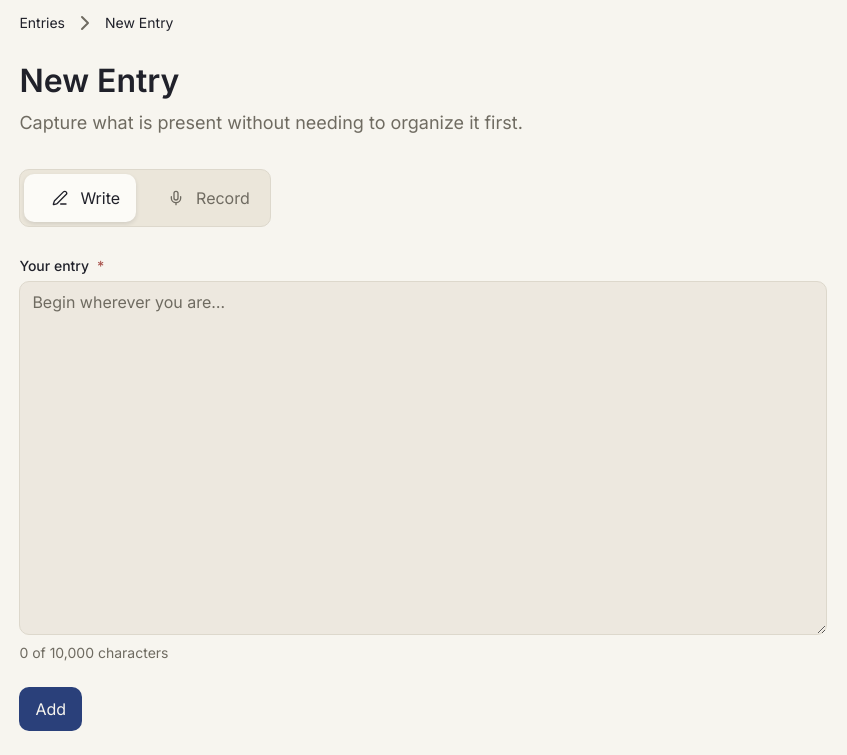
NewEntryScreen › does not POST and retains writing when draft saving fails
The width and height of the screenshot is (847, 755).
Type "Keep these words safe." into the text box labelled "Your entry".
click(423, 458); type("Keep these words safe.")  # box [19,281,827,635]
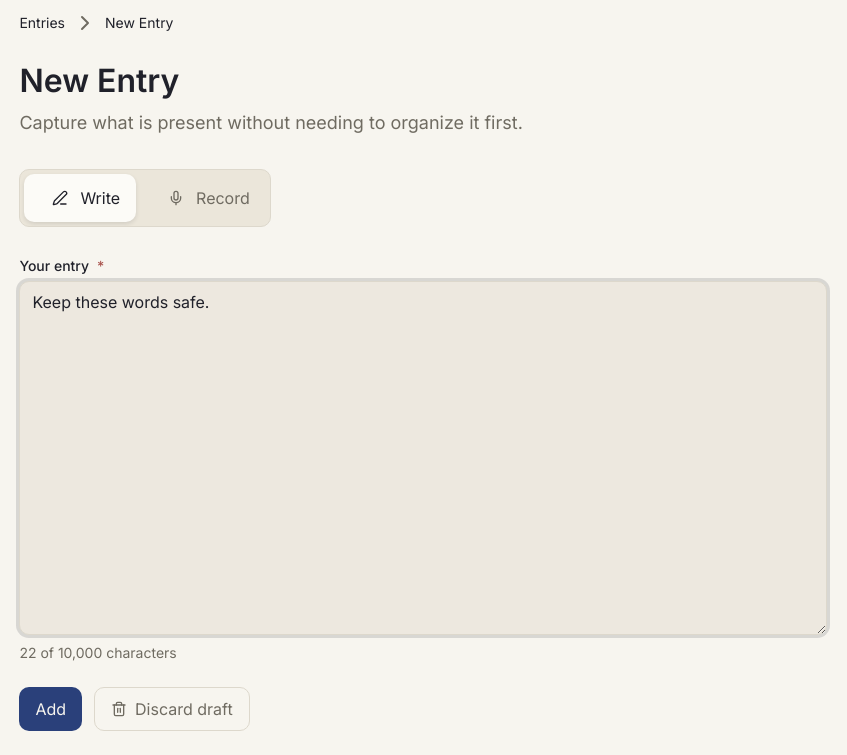
Click the button "Add".
click(51, 709)  # box [19,687,82,731]
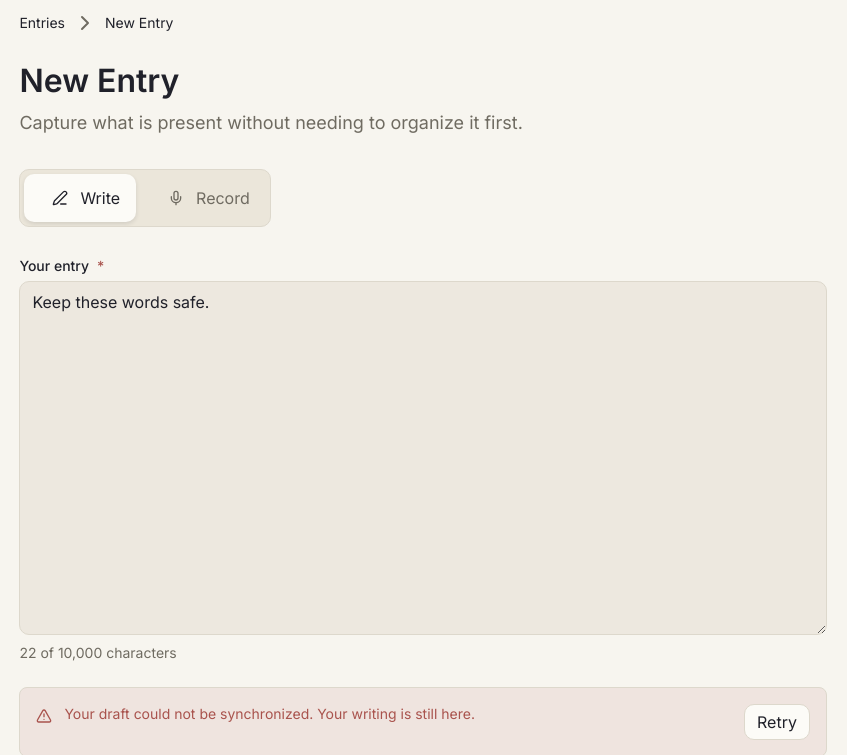
Expected: the text "Your draft could not be synchronized" is shown, [64,705,475,722]
